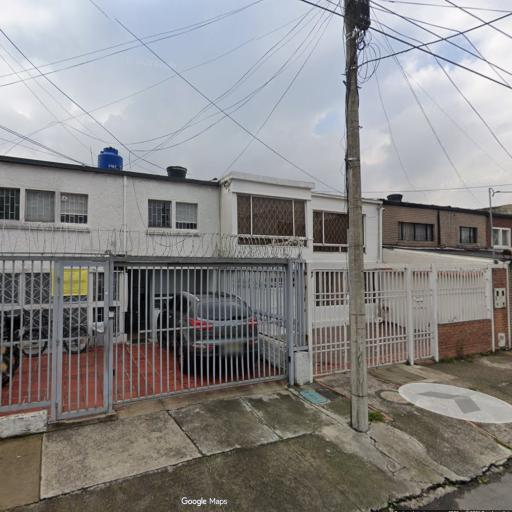Casa: (0, 151, 220, 427), (223, 170, 380, 373)
postes: (341, 2, 376, 434)
